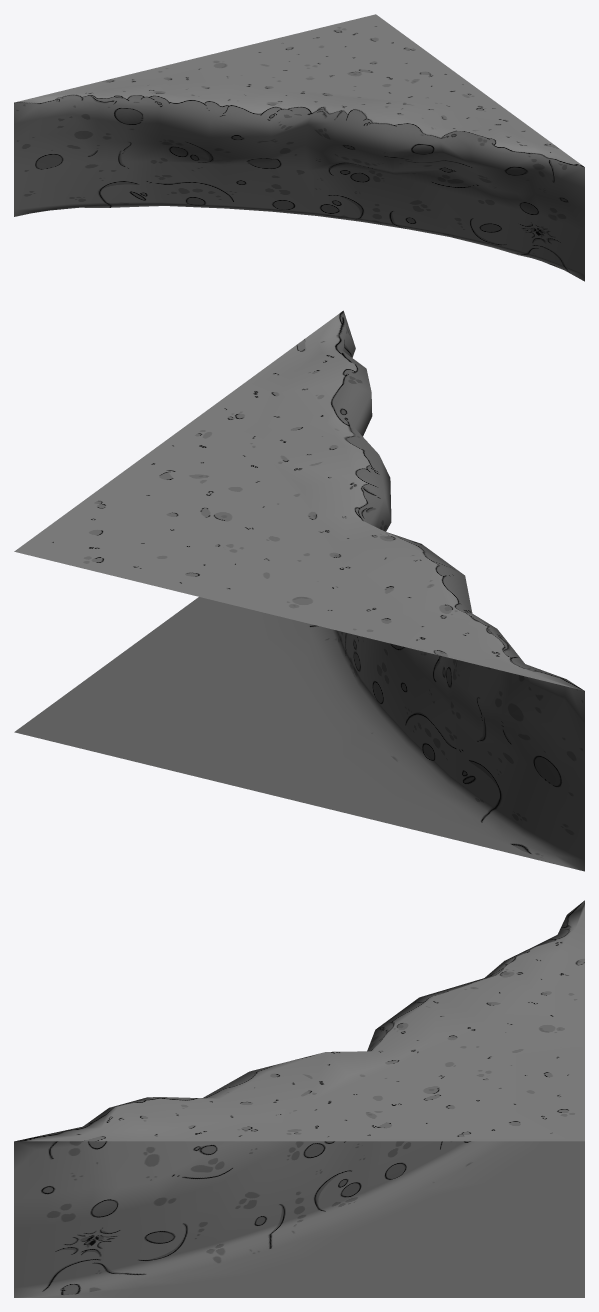
Rendered from FloorTileEdge_InnerCorner_01.obj.
3 renders of one model, top to bottom at view 1: azimuth 30°, elevation 25°; view 2: azimuth 150°, elevation 25°; view 3: azimuth 270°, elevation 25°, orthographic. The views are drawn at different scales.
Parts seen in each view (by area): view 1: LOWINCORN; view 2: LOWINCORN; view 3: LOWINCORN.
Boxes of the visible parts, x1,y1,x2,y2 form: LOWINCORN: [14, 14, 584, 281]; LOWINCORN: [14, 310, 584, 871]; LOWINCORN: [14, 900, 584, 1297].
Bounding box in the file's own units: 175 × 55.78 × 175.
